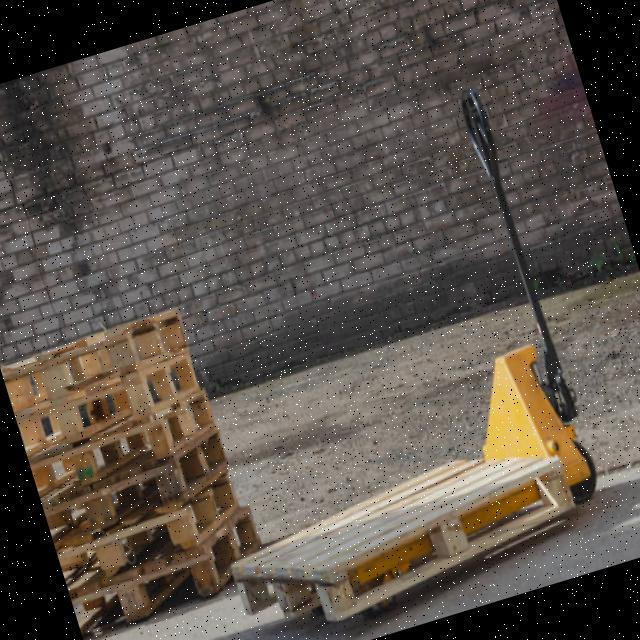Wooden-Pallets: (224, 448, 583, 629), (55, 471, 253, 609), (73, 503, 259, 639), (25, 379, 228, 501), (0, 305, 195, 423), (15, 345, 211, 458), (44, 436, 246, 539)
